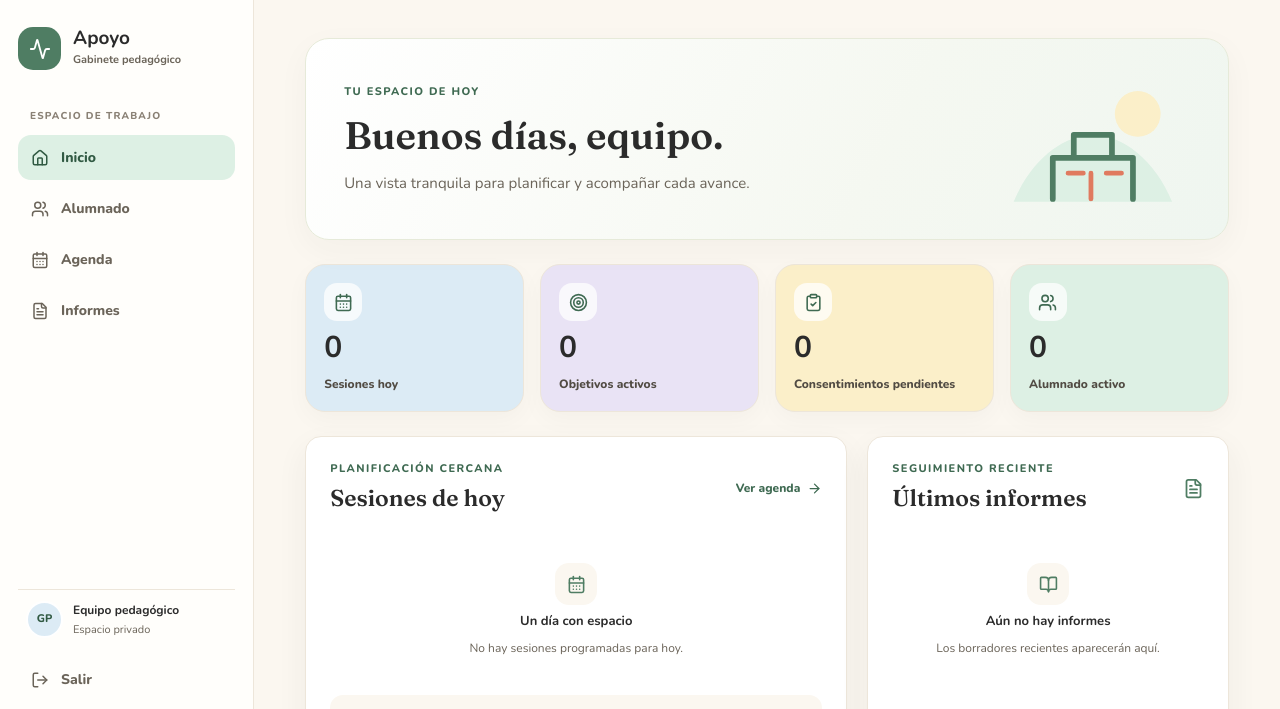
Apoyo › filters the student list by name
The image size is (1280, 709).
Click the button "Alumnado": [126, 208] box [18,186,235,231]
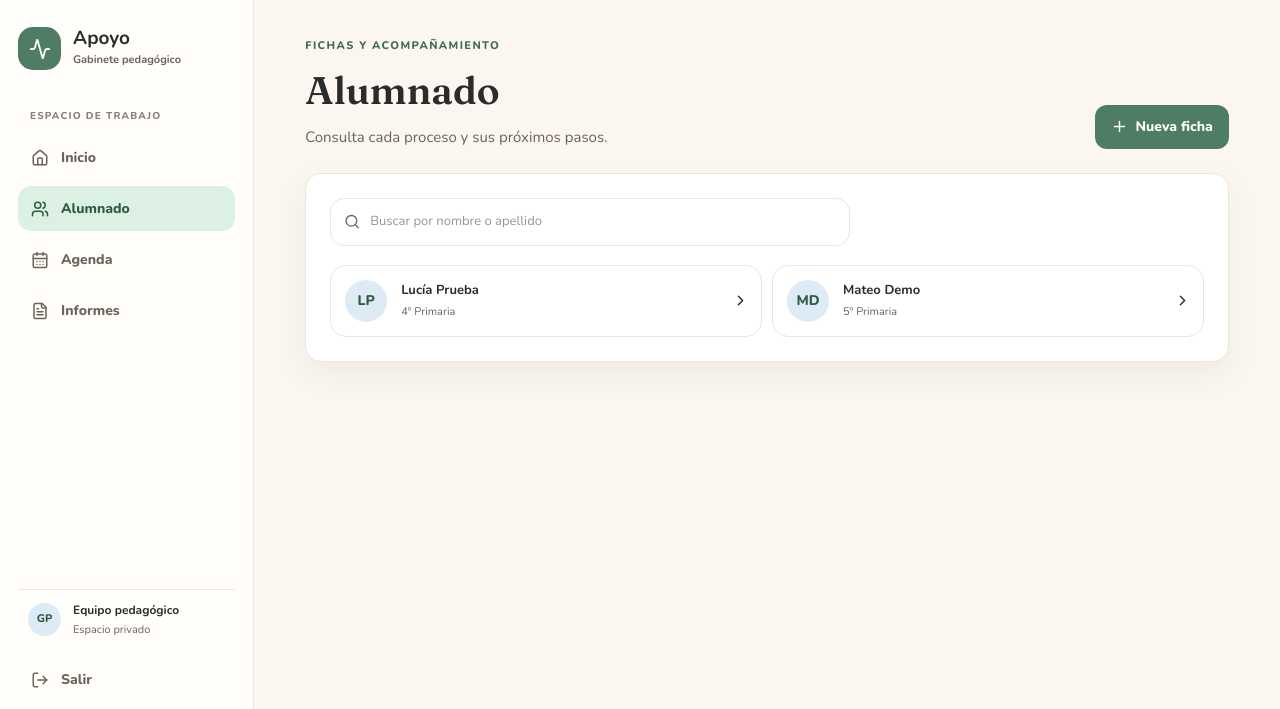
Expected: the text "Mateo Demo" is shown, [843,281,920,299]
In the field named "Buscar estudiante": [603, 222] box [370,199,836,245], type "lucía"
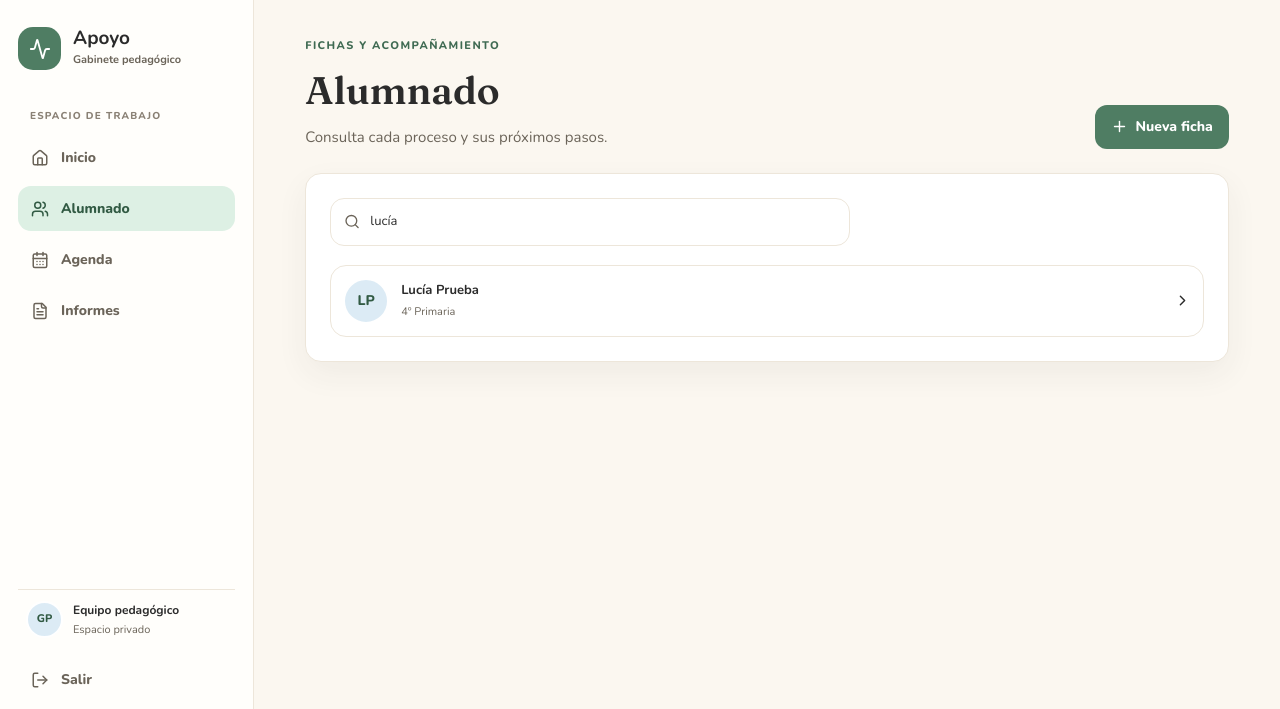
Expected: the text "Lucía Prueba" is shown, [401,281,479,299]
Expected: the button "Mateo Demo" is gone
